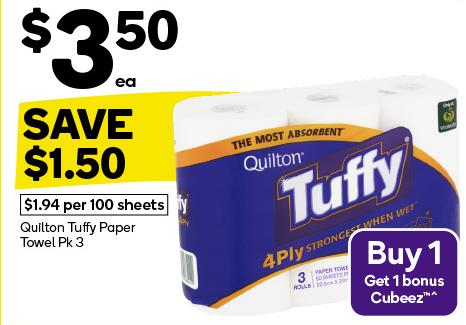description_block: (13, 219, 144, 258)
price_main: (10, 3, 184, 92)
product_image_block: (168, 82, 463, 314)
promo_text_block: (8, 97, 176, 187)
unit_price_block: (13, 190, 171, 218)
